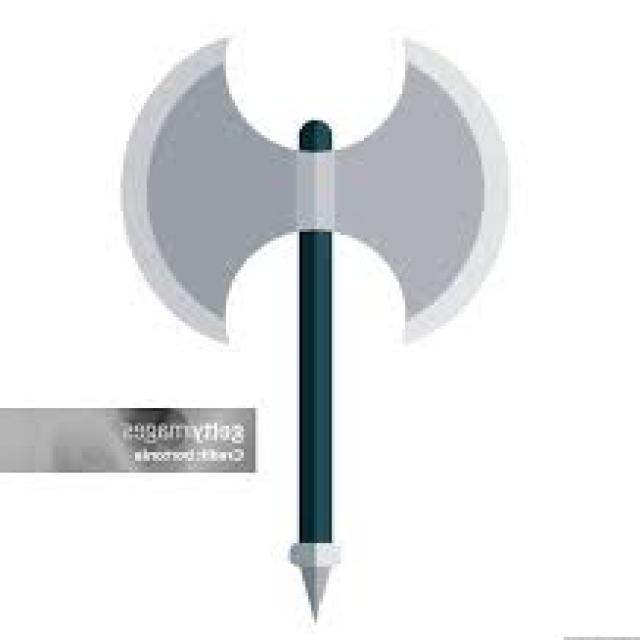Gun: (112, 15, 520, 630)
